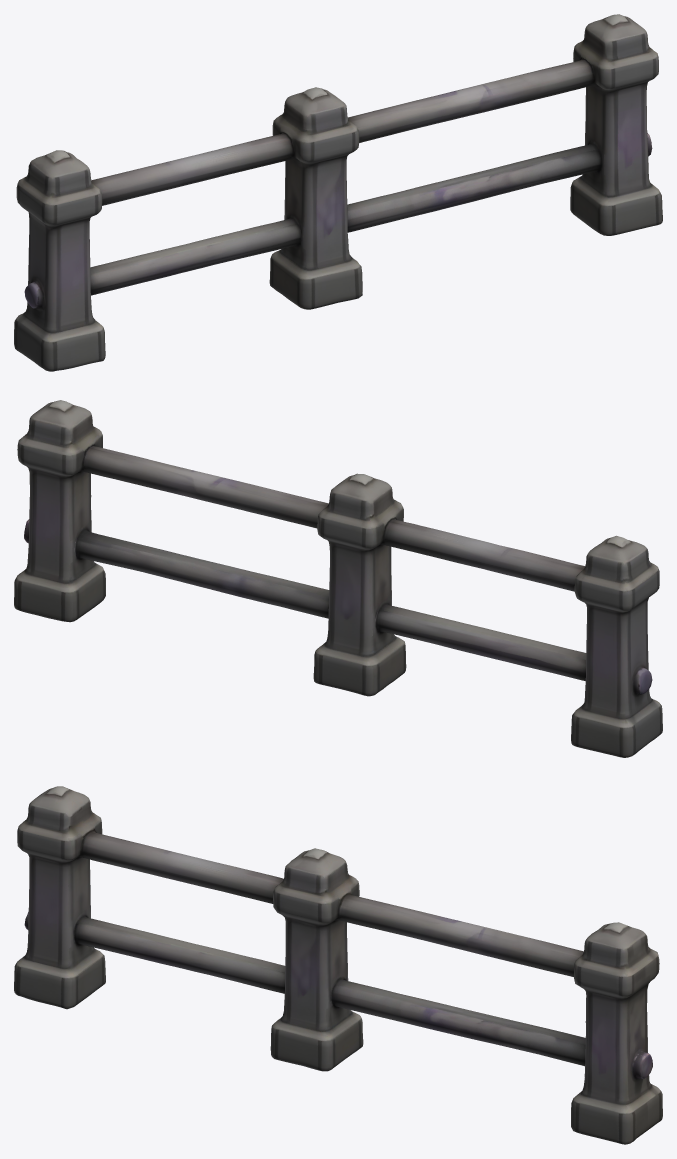
Rendered from SM_Utileria_BarandillaValla_01.fbx.
3 renders of one model, top to bottom at view 1: azimuth 30°, elevation 25°; view 2: azimuth 150°, elevation 25°; view 3: azimuth 330°, elevation 25°, orthographic.
Parts seen in each view (by area): view 1: SM_Utileria_BarandillaValla_01; view 2: SM_Utileria_BarandillaValla_01; view 3: SM_Utileria_BarandillaValla_01.
Boxes of the visible parts, x1,y1,x2,y2 form: SM_Utileria_BarandillaValla_01: (14, 14, 662, 371); SM_Utileria_BarandillaValla_01: (14, 400, 662, 757); SM_Utileria_BarandillaValla_01: (14, 786, 662, 1144).
Bounding box in the file's own units: 0.9999 × 0.3128 × 0.1065.
1 material, 1 textured.
